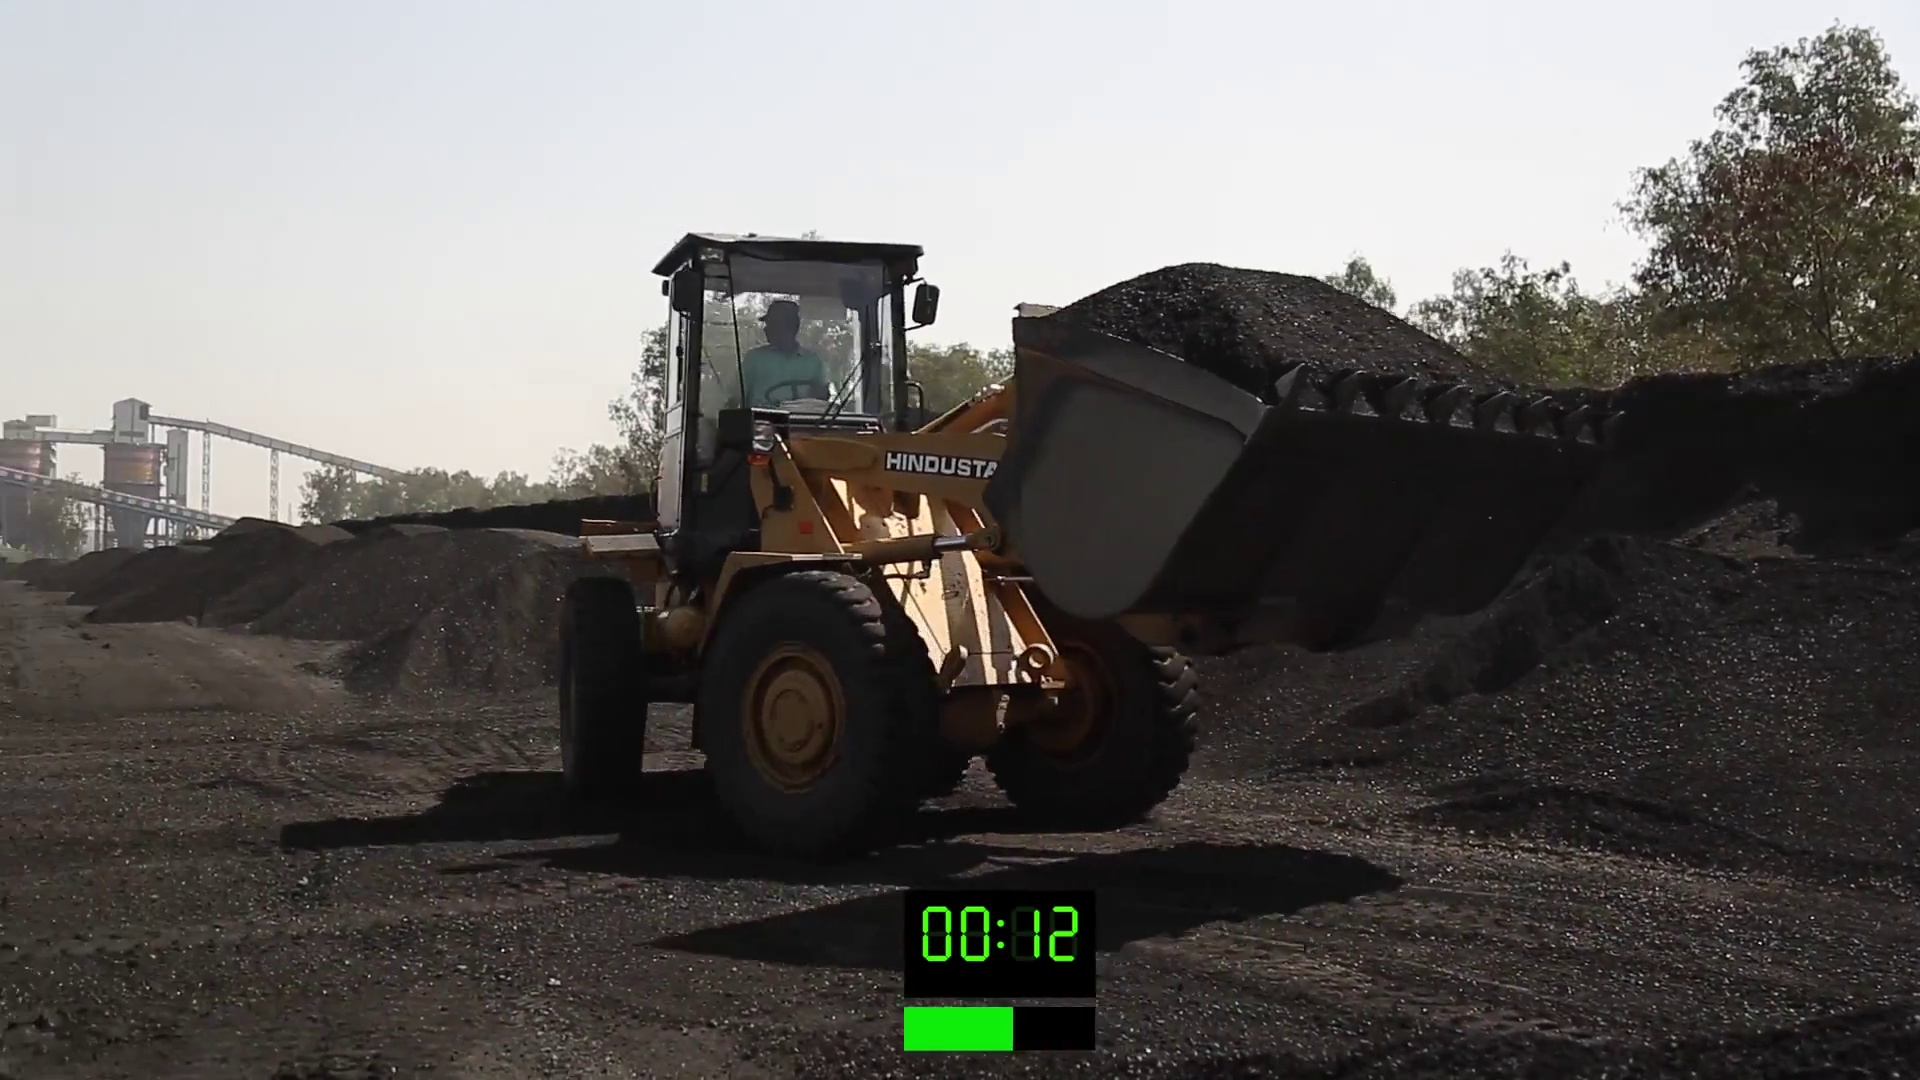person: (737, 297, 834, 404)
wheel loader: (557, 226, 1625, 855)
